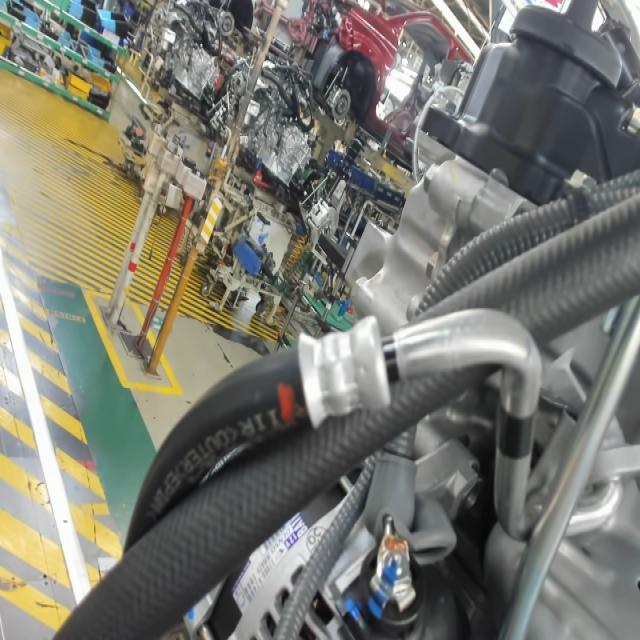Alternator-BA1: (283, 513, 308, 552)
Hose Discharge-HT: (495, 407, 537, 462)
